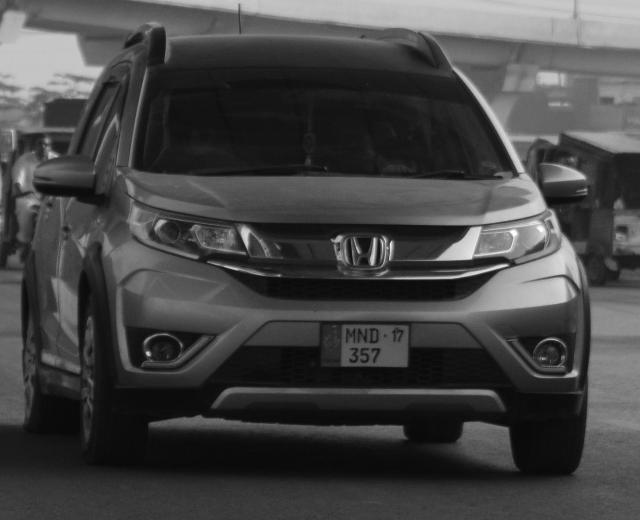Number: (344, 328, 382, 364)
